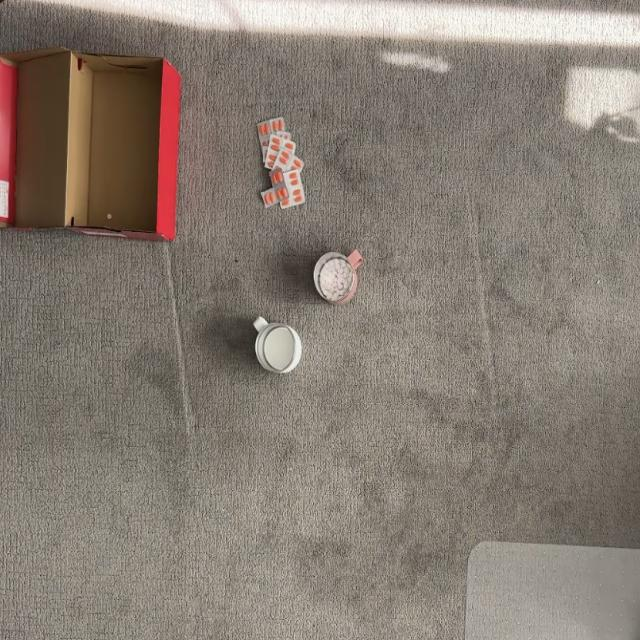IBC: (254, 316, 301, 373), (314, 250, 362, 303)
